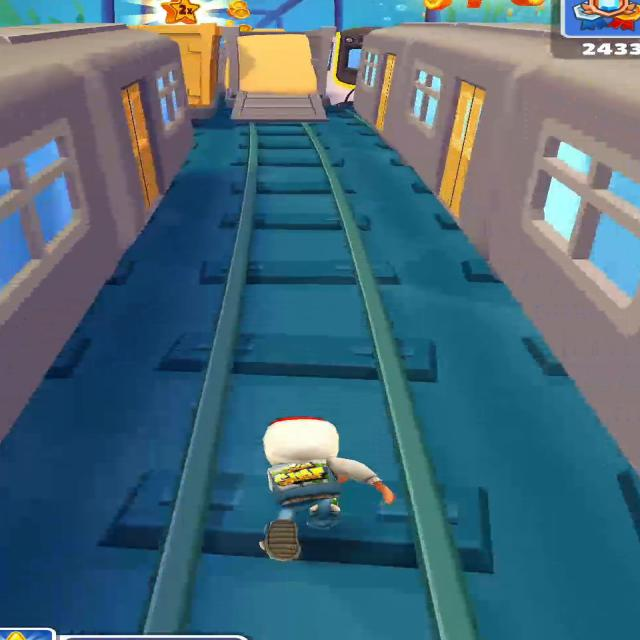climber: (228, 30, 325, 114)
train: (353, 23, 621, 451), (0, 31, 194, 412)
